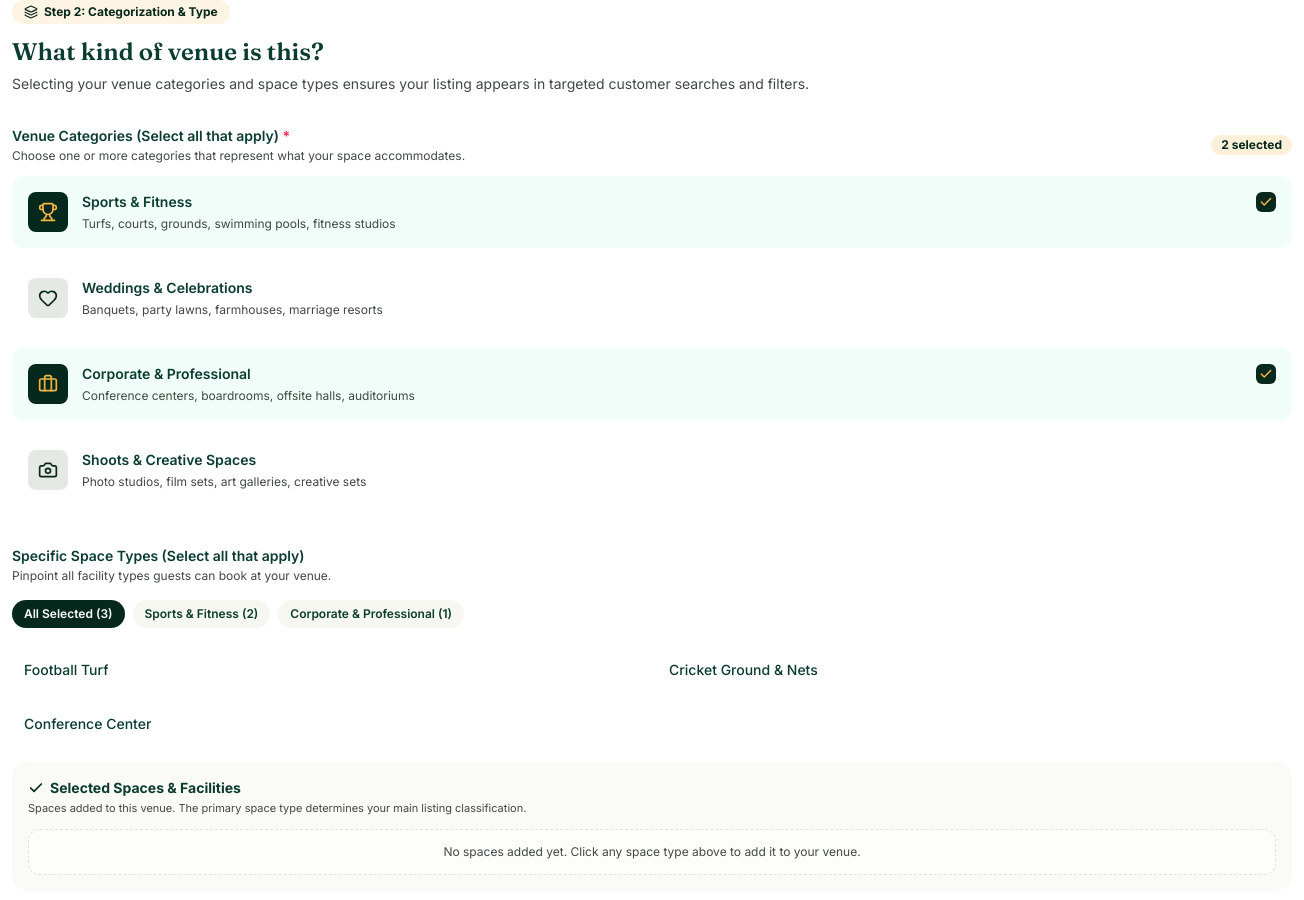
Test: CategoryStep - Multi-Category, Multi-Space-Type & Deduplication › 6. renders Selected Spaces section and displays added spaces with category pills and primary badge
Expected: the heading "Selected Spaces & Facilities" is shown, x1=28 y1=779 x2=241 y2=796
Expected: the text "No spaces added yet" is shown, x1=443 y1=844 x2=861 y2=858
// Select Football Turf
Step 1. Click the button "Football Turf" → click(66, 670), box x1=12 y1=648 x2=647 y2=692
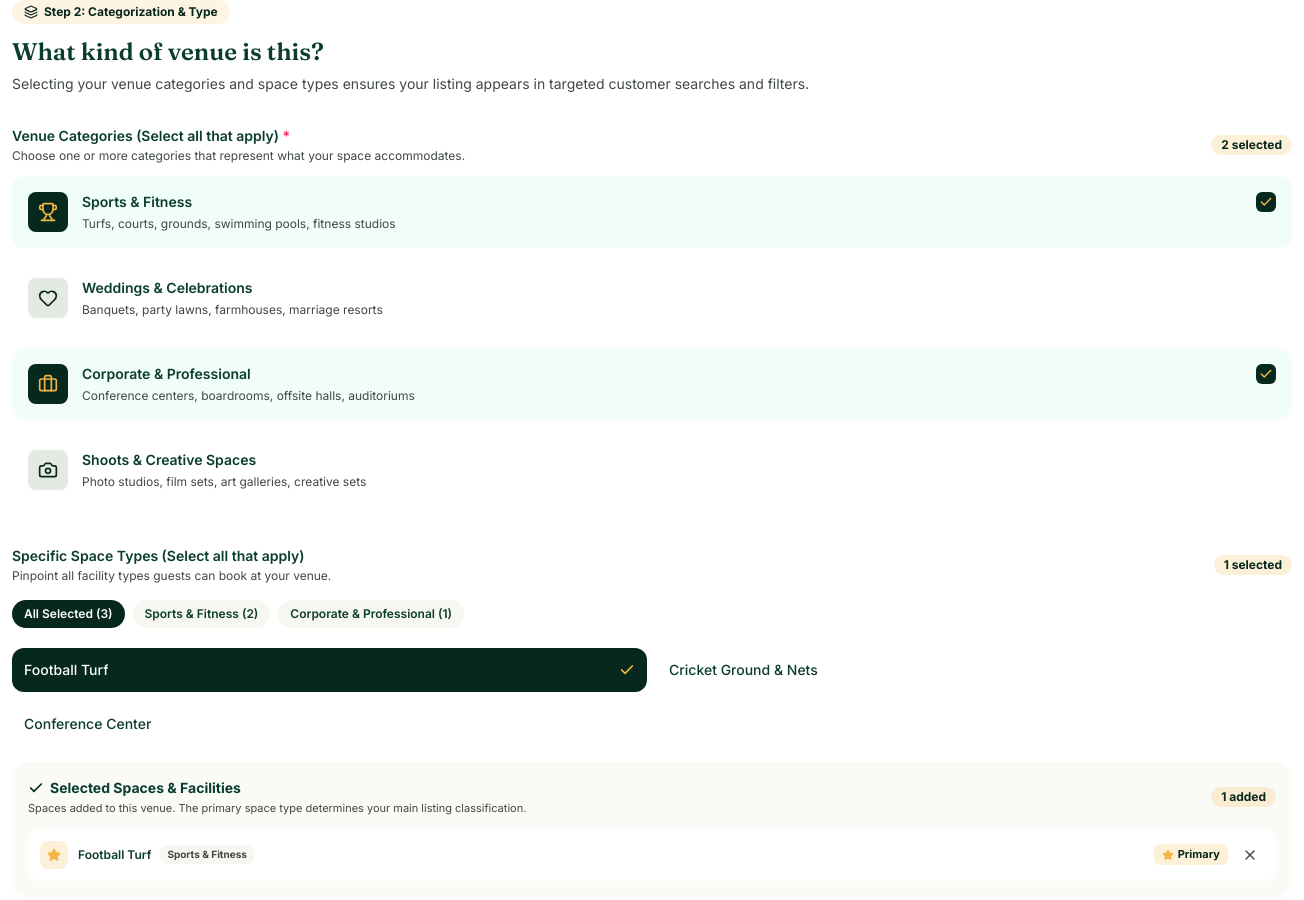
Now the text "1 added" is shown, box x1=1211 y1=787 x2=1276 y2=807
Now the text "Primary" is shown, box x1=1154 y1=844 x2=1228 y2=865
// Select Conference Center (from Corporate) - exact name to avoid matching category description
Step 2. Click the button "Conference Center" → click(88, 724), box x1=12 y1=702 x2=647 y2=746
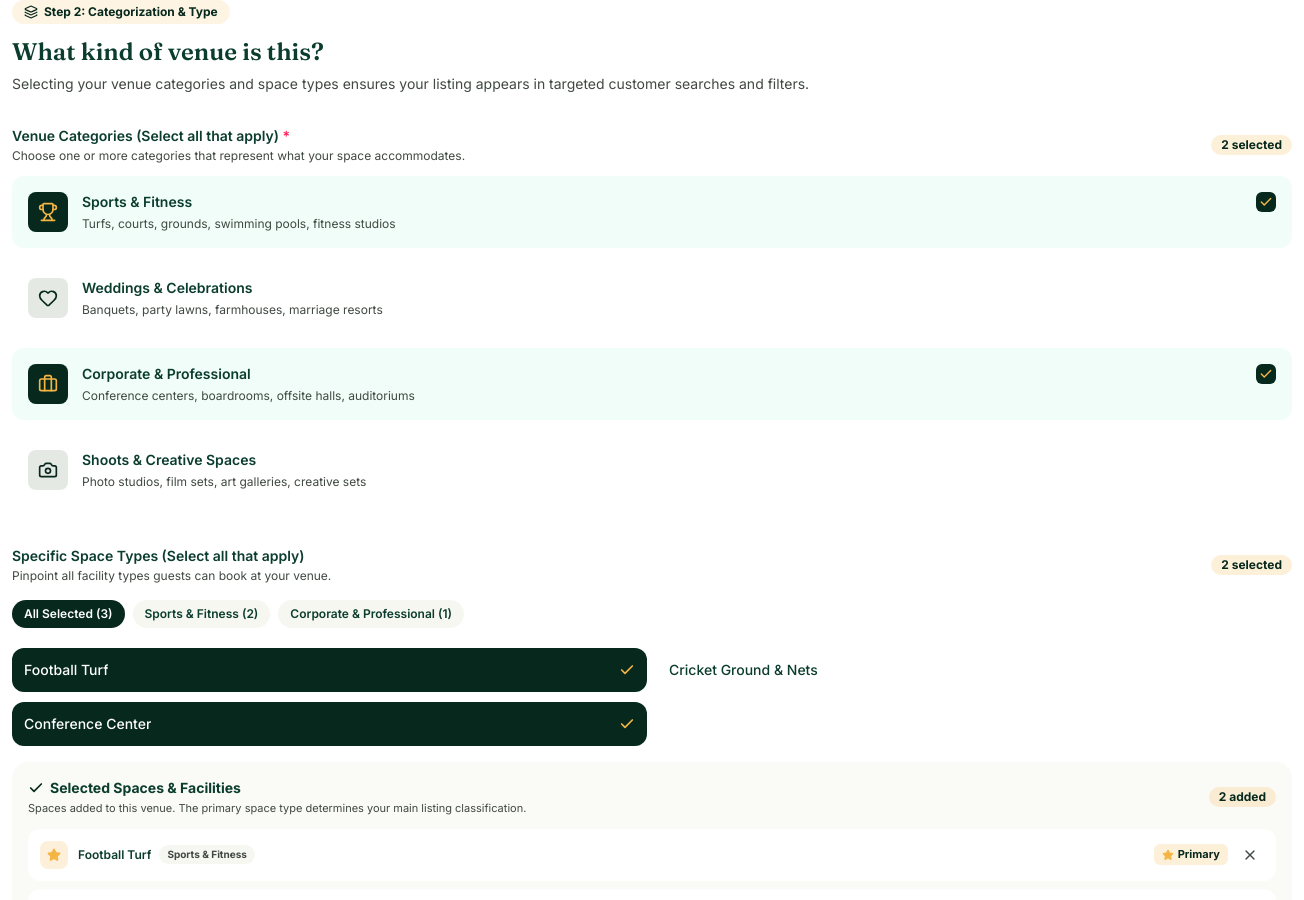
Now the text "2 added" is shown, box x1=1209 y1=787 x2=1276 y2=807
